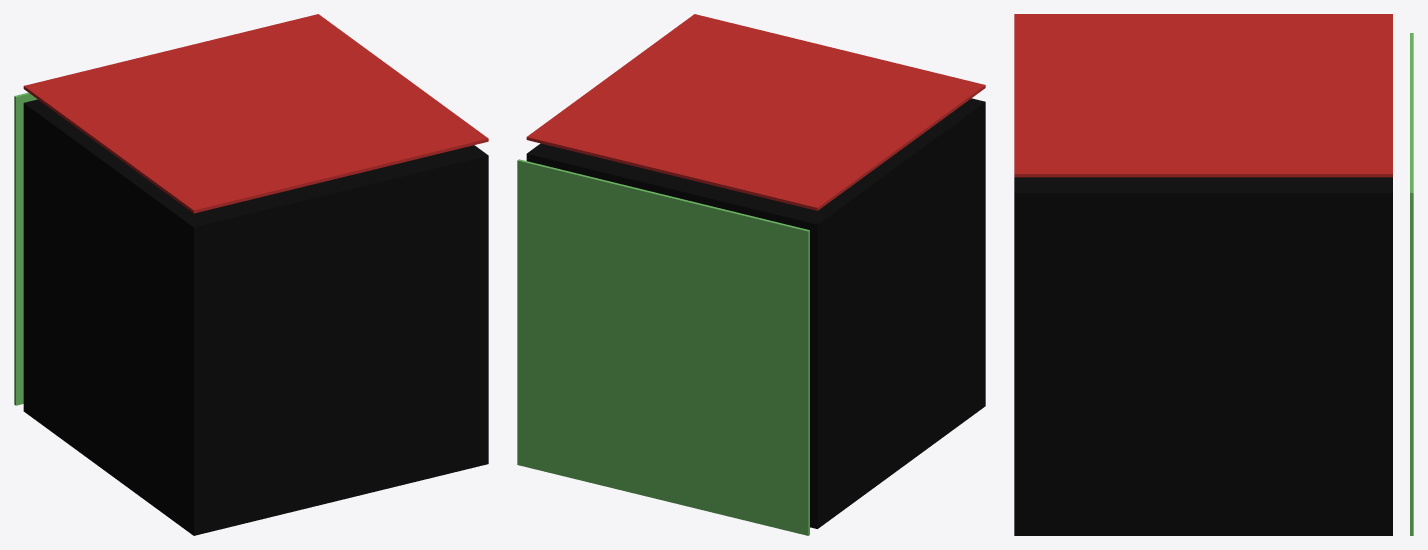
The picture shows the model from 3 angles, left to right: view 1: azimuth 30°, elevation 25°; view 2: azimuth 150°, elevation 25°; view 3: azimuth 270°, elevation 25°; orthographic projection. The views are drawn at different scales.
Parts seen in each view (by area): view 1: Cube, red-3, green-1; view 2: green-1, Cube, red-3; view 3: Cube, red-3, green-1.
Boxes of the visible parts, bbox=[...] form: Cube: bbox=[23, 99, 488, 535]; red-3: bbox=[23, 14, 488, 213]; green-1: bbox=[14, 92, 37, 405]; green-1: bbox=[517, 159, 809, 535]; Cube: bbox=[526, 98, 985, 528]; red-3: bbox=[526, 14, 985, 210]; Cube: bbox=[1014, 177, 1392, 535]; red-3: bbox=[1014, 14, 1392, 177]; green-1: bbox=[1410, 33, 1413, 535].
Size of the model in its own units: 2 by 2.11 by 2.11.
